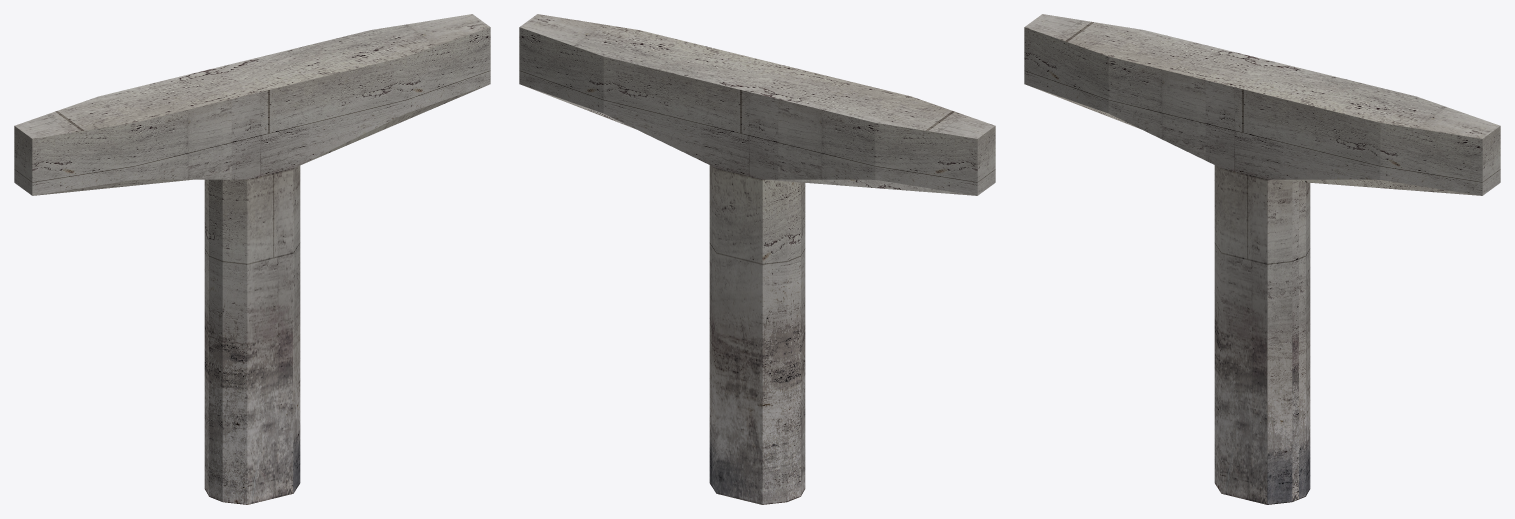
File: Highway_Pillar.fbx
The picture shows the model from 3 angles, left to right: view 1: azimuth 30°, elevation 25°; view 2: azimuth 150°, elevation 25°; view 3: azimuth 330°, elevation 25°; orthographic projection.
Parts seen in each view (by area): view 1: Highway_Pillar_01; view 2: Highway_Pillar_01; view 3: Highway_Pillar_01.
Boxes of the visible parts, bbox=[...] form: Highway_Pillar_01: bbox=[14, 14, 490, 504]; Highway_Pillar_01: bbox=[519, 14, 995, 504]; Highway_Pillar_01: bbox=[1024, 14, 1500, 504].
Bounding box in the file's own units: 1071 × 915 × 146.
